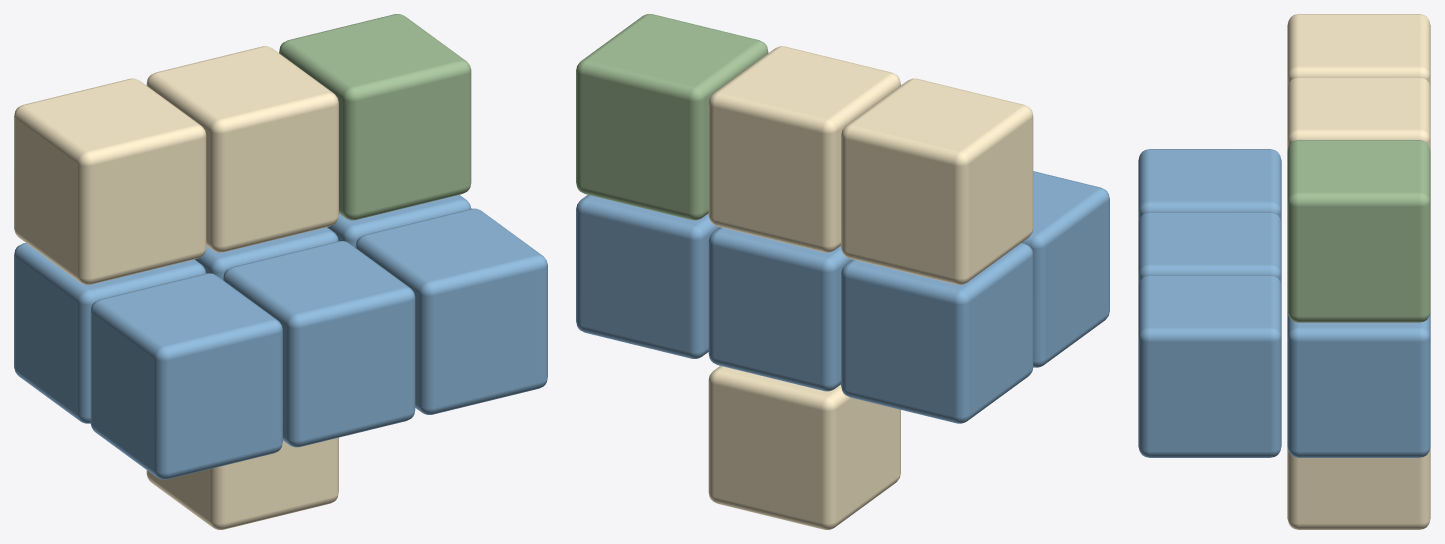
File: floating-ledge.glb
3 views of the same model, side by side, from view 1: azimuth 30°, elevation 25°; view 2: azimuth 150°, elevation 25°; view 3: azimuth 270°, elevation 25° (orthographic). The views are drawn at different scales.
Visible parts, largest first — view 1: floating-ledge-cell-3, floating-ledge-cell-6, floating-ledge-cell-7, floating-ledge-cell-4, floating-ledge-cell-5, floating-ledge-cell-8, floating-ledge-cell-0, floating-ledge-cell-9, floating-ledge-cell-1, floating-ledge-cell-2; view 2: floating-ledge-cell-6, floating-ledge-cell-0, floating-ledge-cell-7, floating-ledge-cell-8, floating-ledge-cell-9, floating-ledge-cell-1, floating-ledge-cell-2, floating-ledge-cell-3; view 3: floating-ledge-cell-5, floating-ledge-cell-8, floating-ledge-cell-2, floating-ledge-cell-9, floating-ledge-cell-3, floating-ledge-cell-4, floating-ledge-cell-6, floating-ledge-cell-7.
Boxes of the visible parts, x1=… form: floating-ledge-cell-3: x1=90, y1=273, x2=282, y2=479; floating-ledge-cell-6: x1=14, y1=78, x2=206, y2=284; floating-ledge-cell-7: x1=146, y1=46, x2=338, y2=252; floating-ledge-cell-4: x1=223, y1=241, x2=415, y2=447; floating-ledge-cell-5: x1=355, y1=208, x2=547, y2=414; floating-ledge-cell-8: x1=279, y1=14, x2=471, y2=220; floating-ledge-cell-0: x1=14, y1=243, x2=206, y2=423; floating-ledge-cell-9: x1=146, y1=437, x2=338, y2=529; floating-ledge-cell-1: x1=195, y1=227, x2=338, y2=279; floating-ledge-cell-2: x1=327, y1=195, x2=471, y2=247; floating-ledge-cell-6: x1=841, y1=78, x2=1033, y2=284; floating-ledge-cell-0: x1=841, y1=243, x2=1033, y2=423; floating-ledge-cell-7: x1=708, y1=46, x2=900, y2=252; floating-ledge-cell-8: x1=576, y1=14, x2=768, y2=220; floating-ledge-cell-9: x1=708, y1=366, x2=900, y2=529; floating-ledge-cell-1: x1=708, y1=227, x2=852, y2=391; floating-ledge-cell-2: x1=576, y1=195, x2=719, y2=358; floating-ledge-cell-3: x1=1022, y1=171, x2=1109, y2=367; floating-ledge-cell-5: x1=1138, y1=275, x2=1281, y2=457; floating-ledge-cell-8: x1=1287, y1=140, x2=1430, y2=322; floating-ledge-cell-2: x1=1287, y1=312, x2=1430, y2=457; floating-ledge-cell-9: x1=1287, y1=447, x2=1430, y2=529; floating-ledge-cell-3: x1=1138, y1=149, x2=1281, y2=222; floating-ledge-cell-4: x1=1138, y1=212, x2=1281, y2=285; floating-ledge-cell-6: x1=1287, y1=14, x2=1430, y2=87; floating-ledge-cell-7: x1=1287, y1=77, x2=1430, y2=150.
Size of the model in its own units: 2.96 by 2.96 by 1.96.
